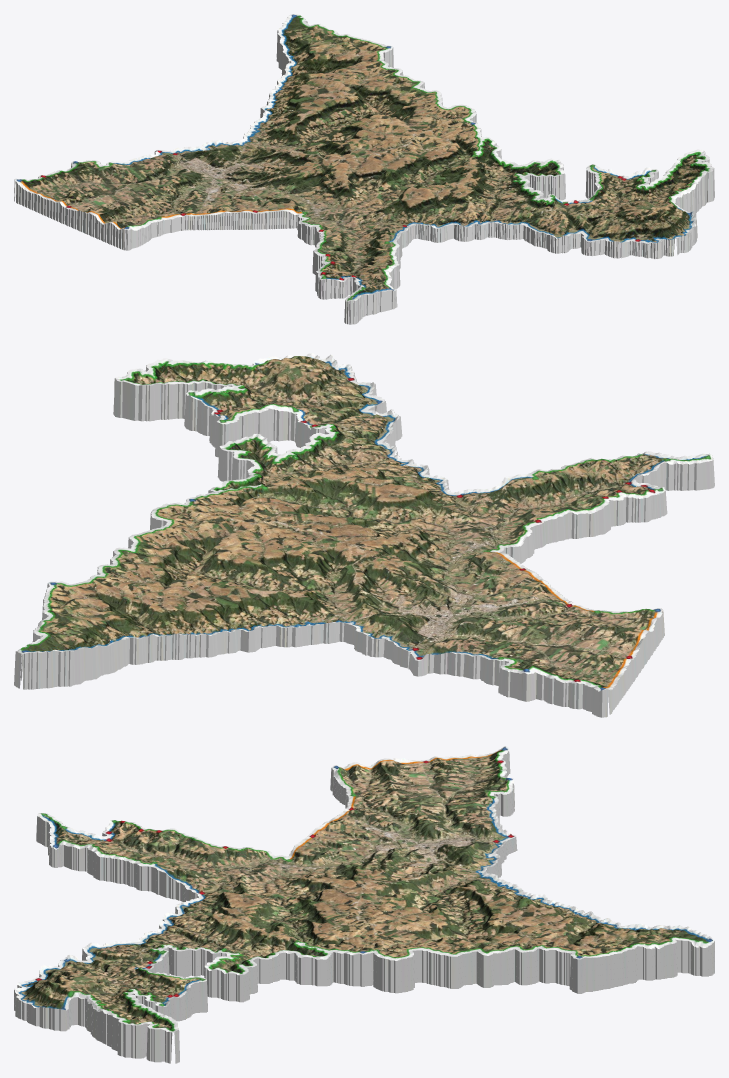
3 views of the same model, one above another, from view 1: azimuth 30°, elevation 25°; view 2: azimuth 150°, elevation 25°; view 3: azimuth 270°, elevation 25° (orthographic). The views are drawn at different scales.
Size of the model in its own units: 1 by 0.0544 by 1.01.
Materials: 1 (1 with a texture image).
